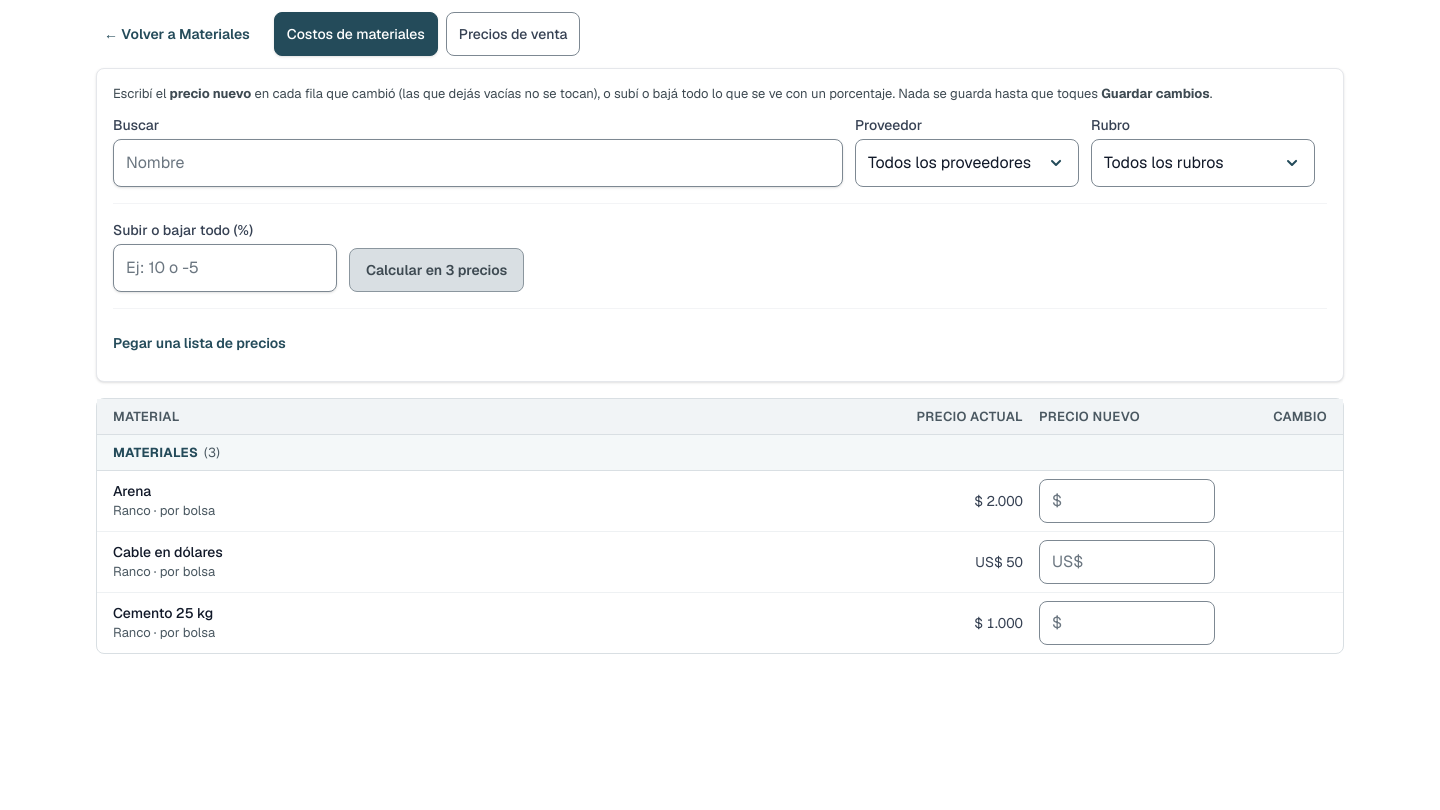
Test case: Actualizar precios › si una fila falla, se avisa cuál y queda cargada para reintentar
Type "2500" into the field named "Precio nuevo de Arena" at (1127, 501), box [1039,479,1215,523]
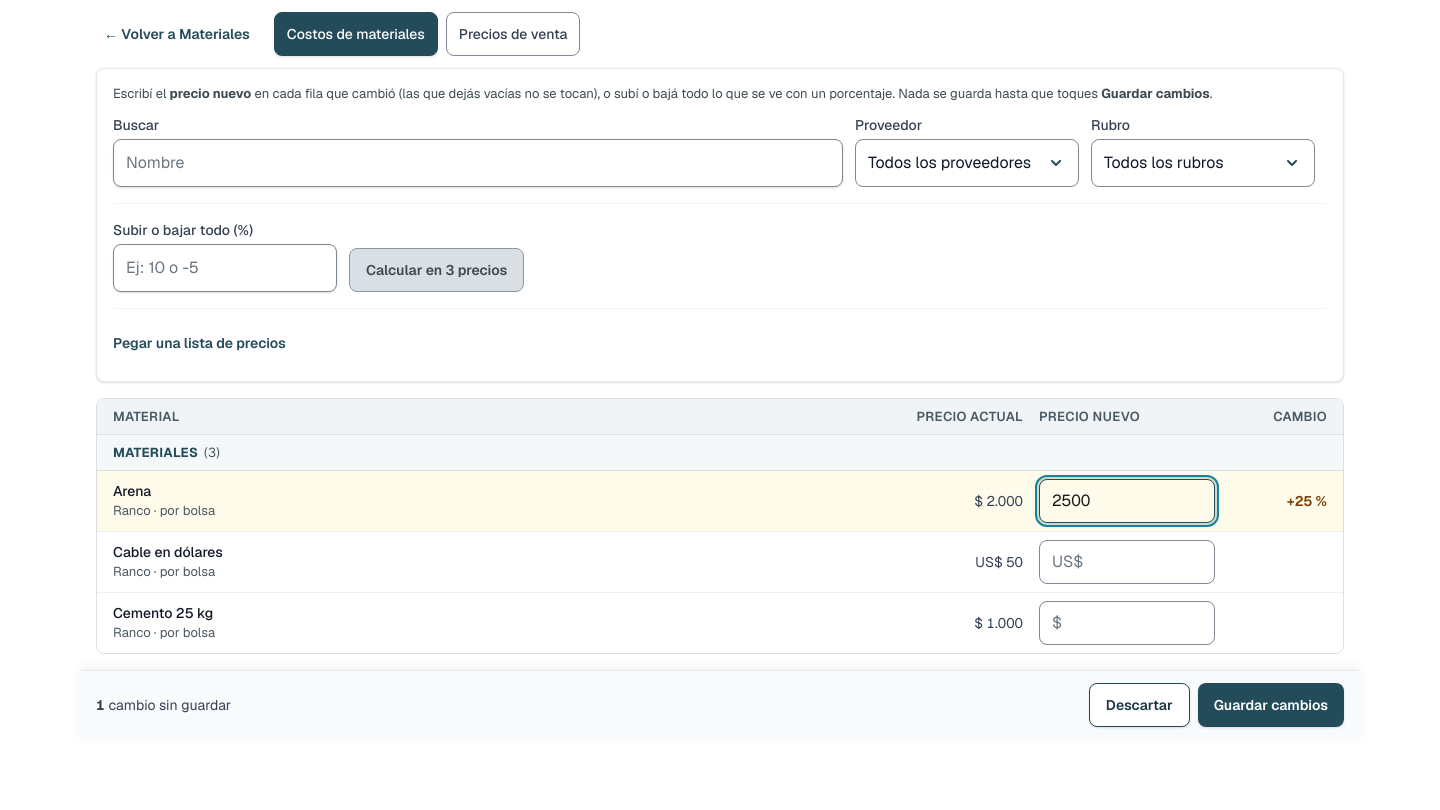
Click the button "Guardar cambios" at (1271, 705), box [1198,683,1344,727]
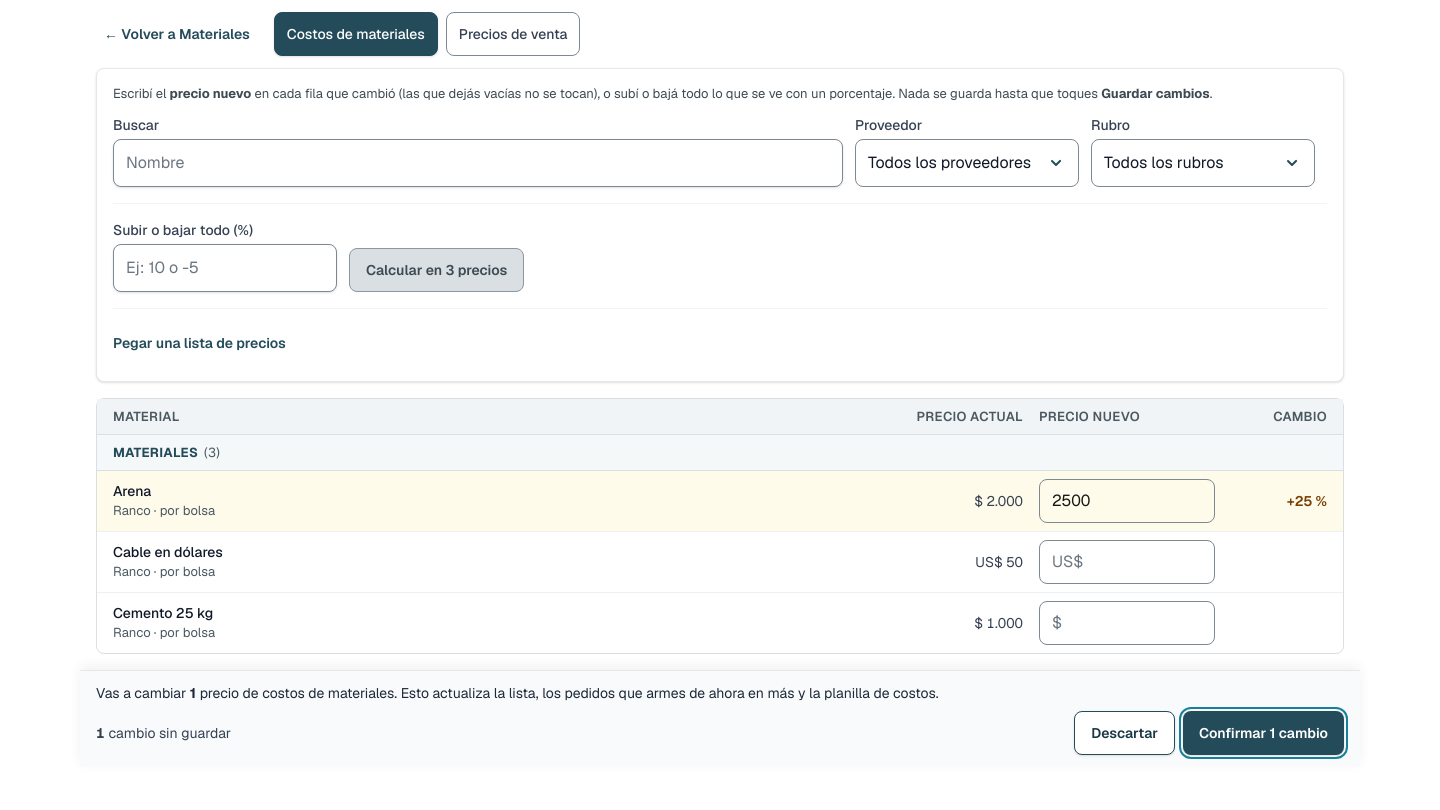
Click the button "Confirmar 1 cambio" at (1264, 733), box [1183,711,1344,755]
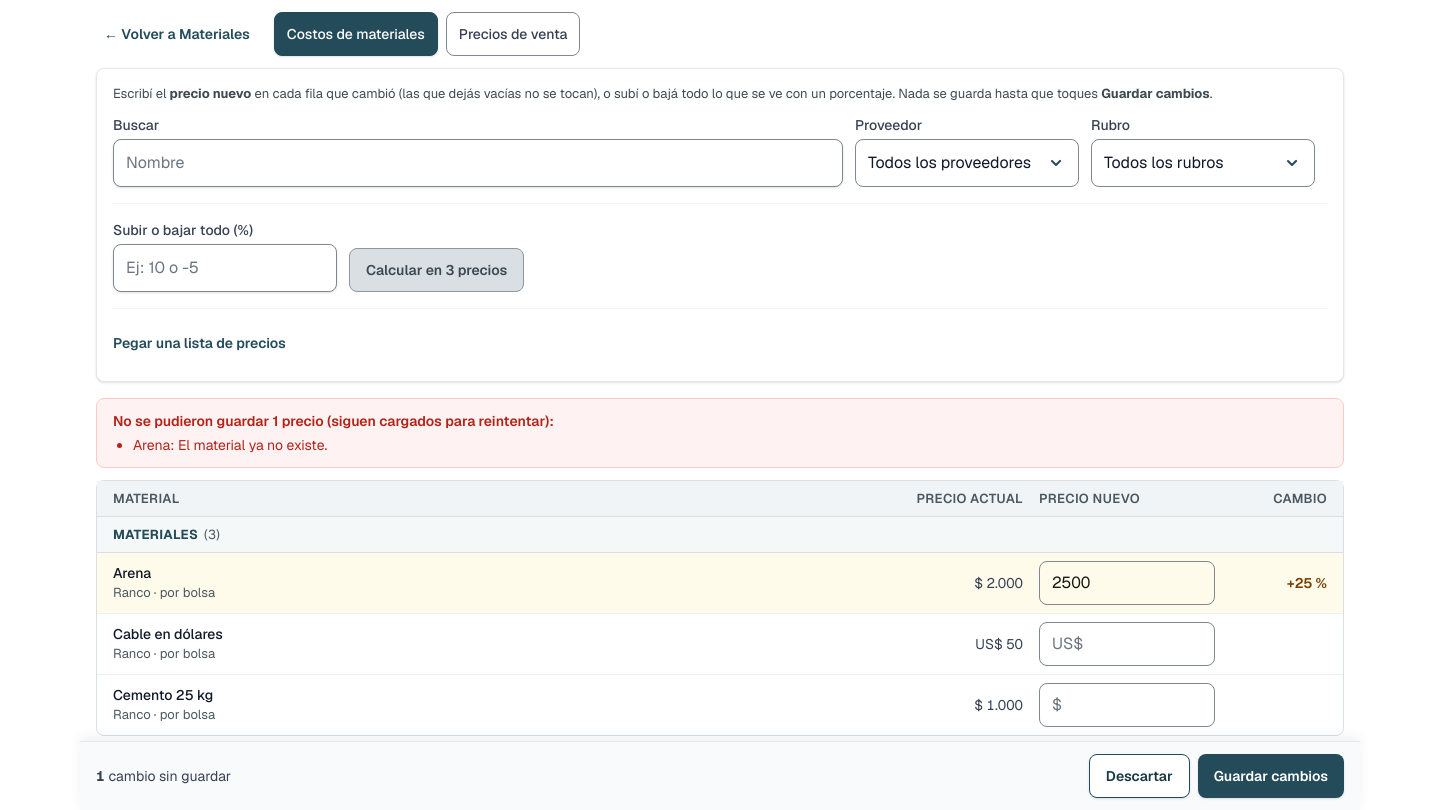
Check: the list item "Arena: El material ya no existe." is shown, box [133,436,327,454]
